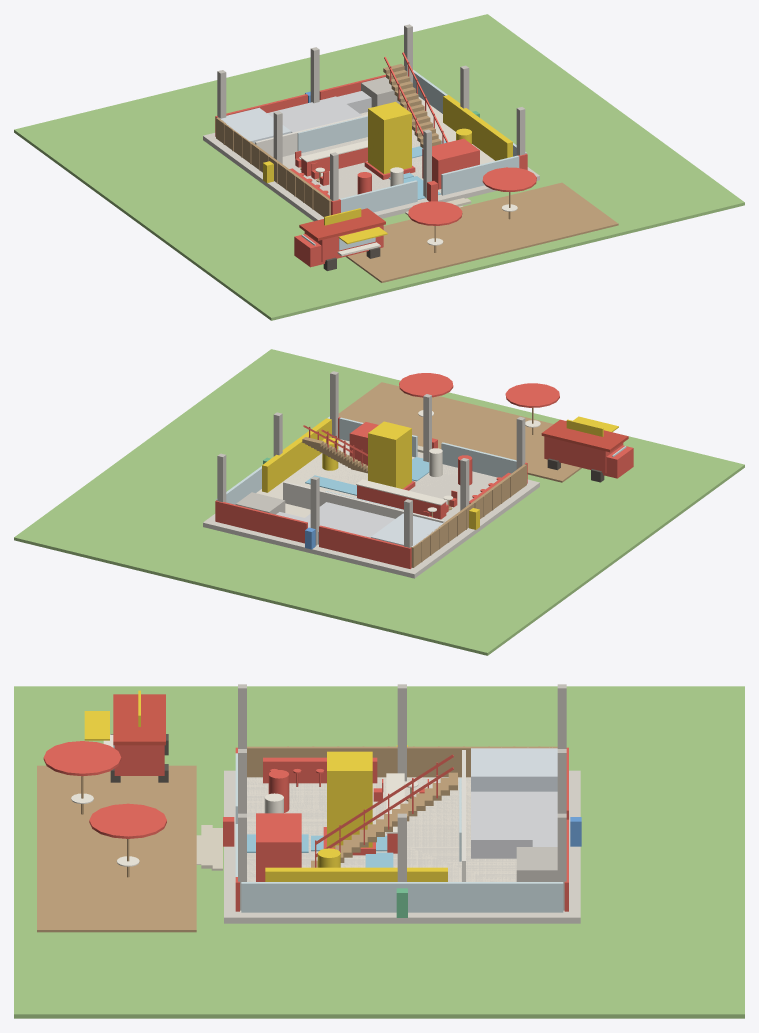
The picture shows the model from 3 angles, top to bottom: view 1: azimuth 30°, elevation 25°; view 2: azimuth 150°, elevation 25°; view 3: azimuth 270°, elevation 25°; orthographic projection. The views are drawn at different scales.
Parts seen in each view (by area): view 1: grass, deck, plinth, window (×3), wall (×3), bigplush, g_para (×2), shelf, kitchen, factoryGlass, showcase, freezer (+8 smaller); view 2: grass, deck, wall (×3), plinth, bigplush, g_para (×2), window (×2), floor, shelf, kitchen, col (×3), bohwall (+8 smaller); view 3: grass, deck, plinth, window, floor, col (×8), kitchen, g_para (×2), wall, freezer, bigplush, kc_roof (+9 smaller).
Boxes of the visible parts, x1,y1,x2,y2 form: grass: [14, 14, 744, 320]; deck: [346, 182, 618, 282]; plinth: [203, 98, 539, 221]; window (×3): [340, 70, 526, 212]; wall (×3): [215, 74, 385, 216]; bigplush: [368, 101, 411, 173]; g_para (×2): [408, 167, 536, 225]; shelf: [443, 95, 512, 160]; kitchen: [267, 96, 361, 132]; factoryGlass: [297, 116, 367, 152]; showcase: [422, 138, 479, 189]; freezer: [220, 107, 291, 143]; grass: [14, 349, 744, 655]; deck: [338, 382, 581, 482]; wall (×3): [215, 464, 526, 568]; plinth: [203, 441, 539, 578]; bigplush: [368, 421, 411, 488]; g_para (×2): [399, 373, 559, 407]; window (×2): [216, 416, 516, 504]; floor: [256, 439, 476, 545]; shelf: [262, 418, 331, 492]; kitchen: [301, 502, 394, 544]; col (×3): [310, 371, 431, 545]; bohwall: [283, 481, 444, 523]; grass: [14, 686, 744, 1018]; deck: [37, 765, 196, 932]; plinth: [224, 770, 580, 923]; window: [241, 882, 563, 912]; floor: [240, 777, 564, 911]; col (×8): [238, 684, 566, 910]; kitchen: [471, 791, 557, 858]; g_para (×2): [43, 741, 166, 838]; wall: [247, 746, 557, 777]; freezer: [471, 748, 557, 791]; bigplush: [327, 751, 372, 847]; kc_roof: [113, 694, 165, 745].
Size of the model in its own units: 34 by 5.97 by 32.
